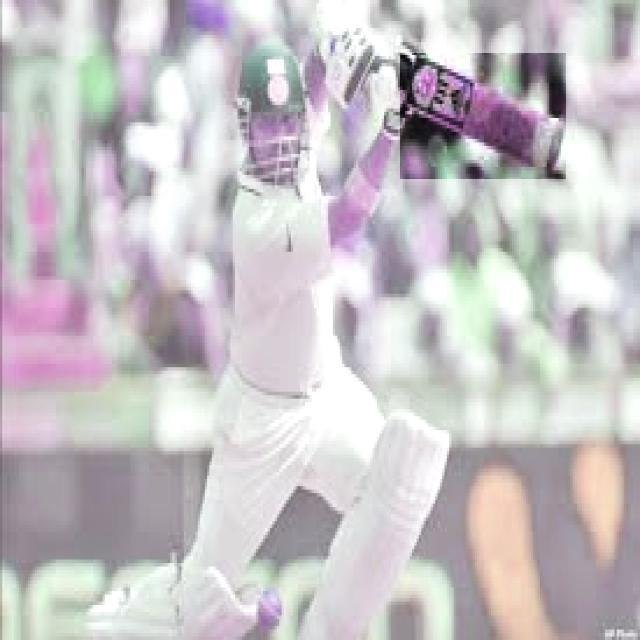bat: (400, 51, 565, 181)
toe: (550, 121, 565, 175)
